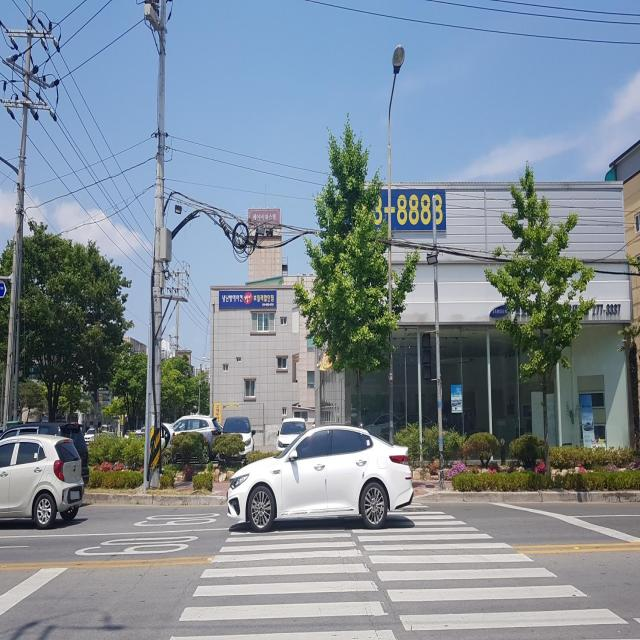횡단보도: (166, 496, 630, 640)
